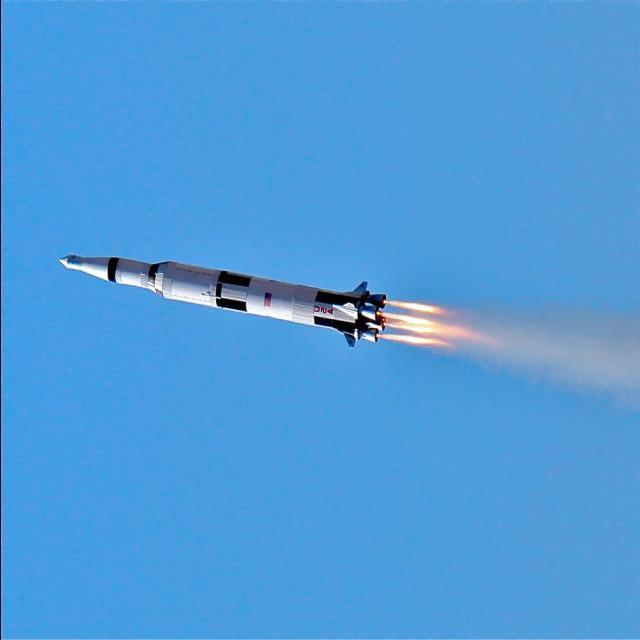Missile: (60, 248, 384, 351)
